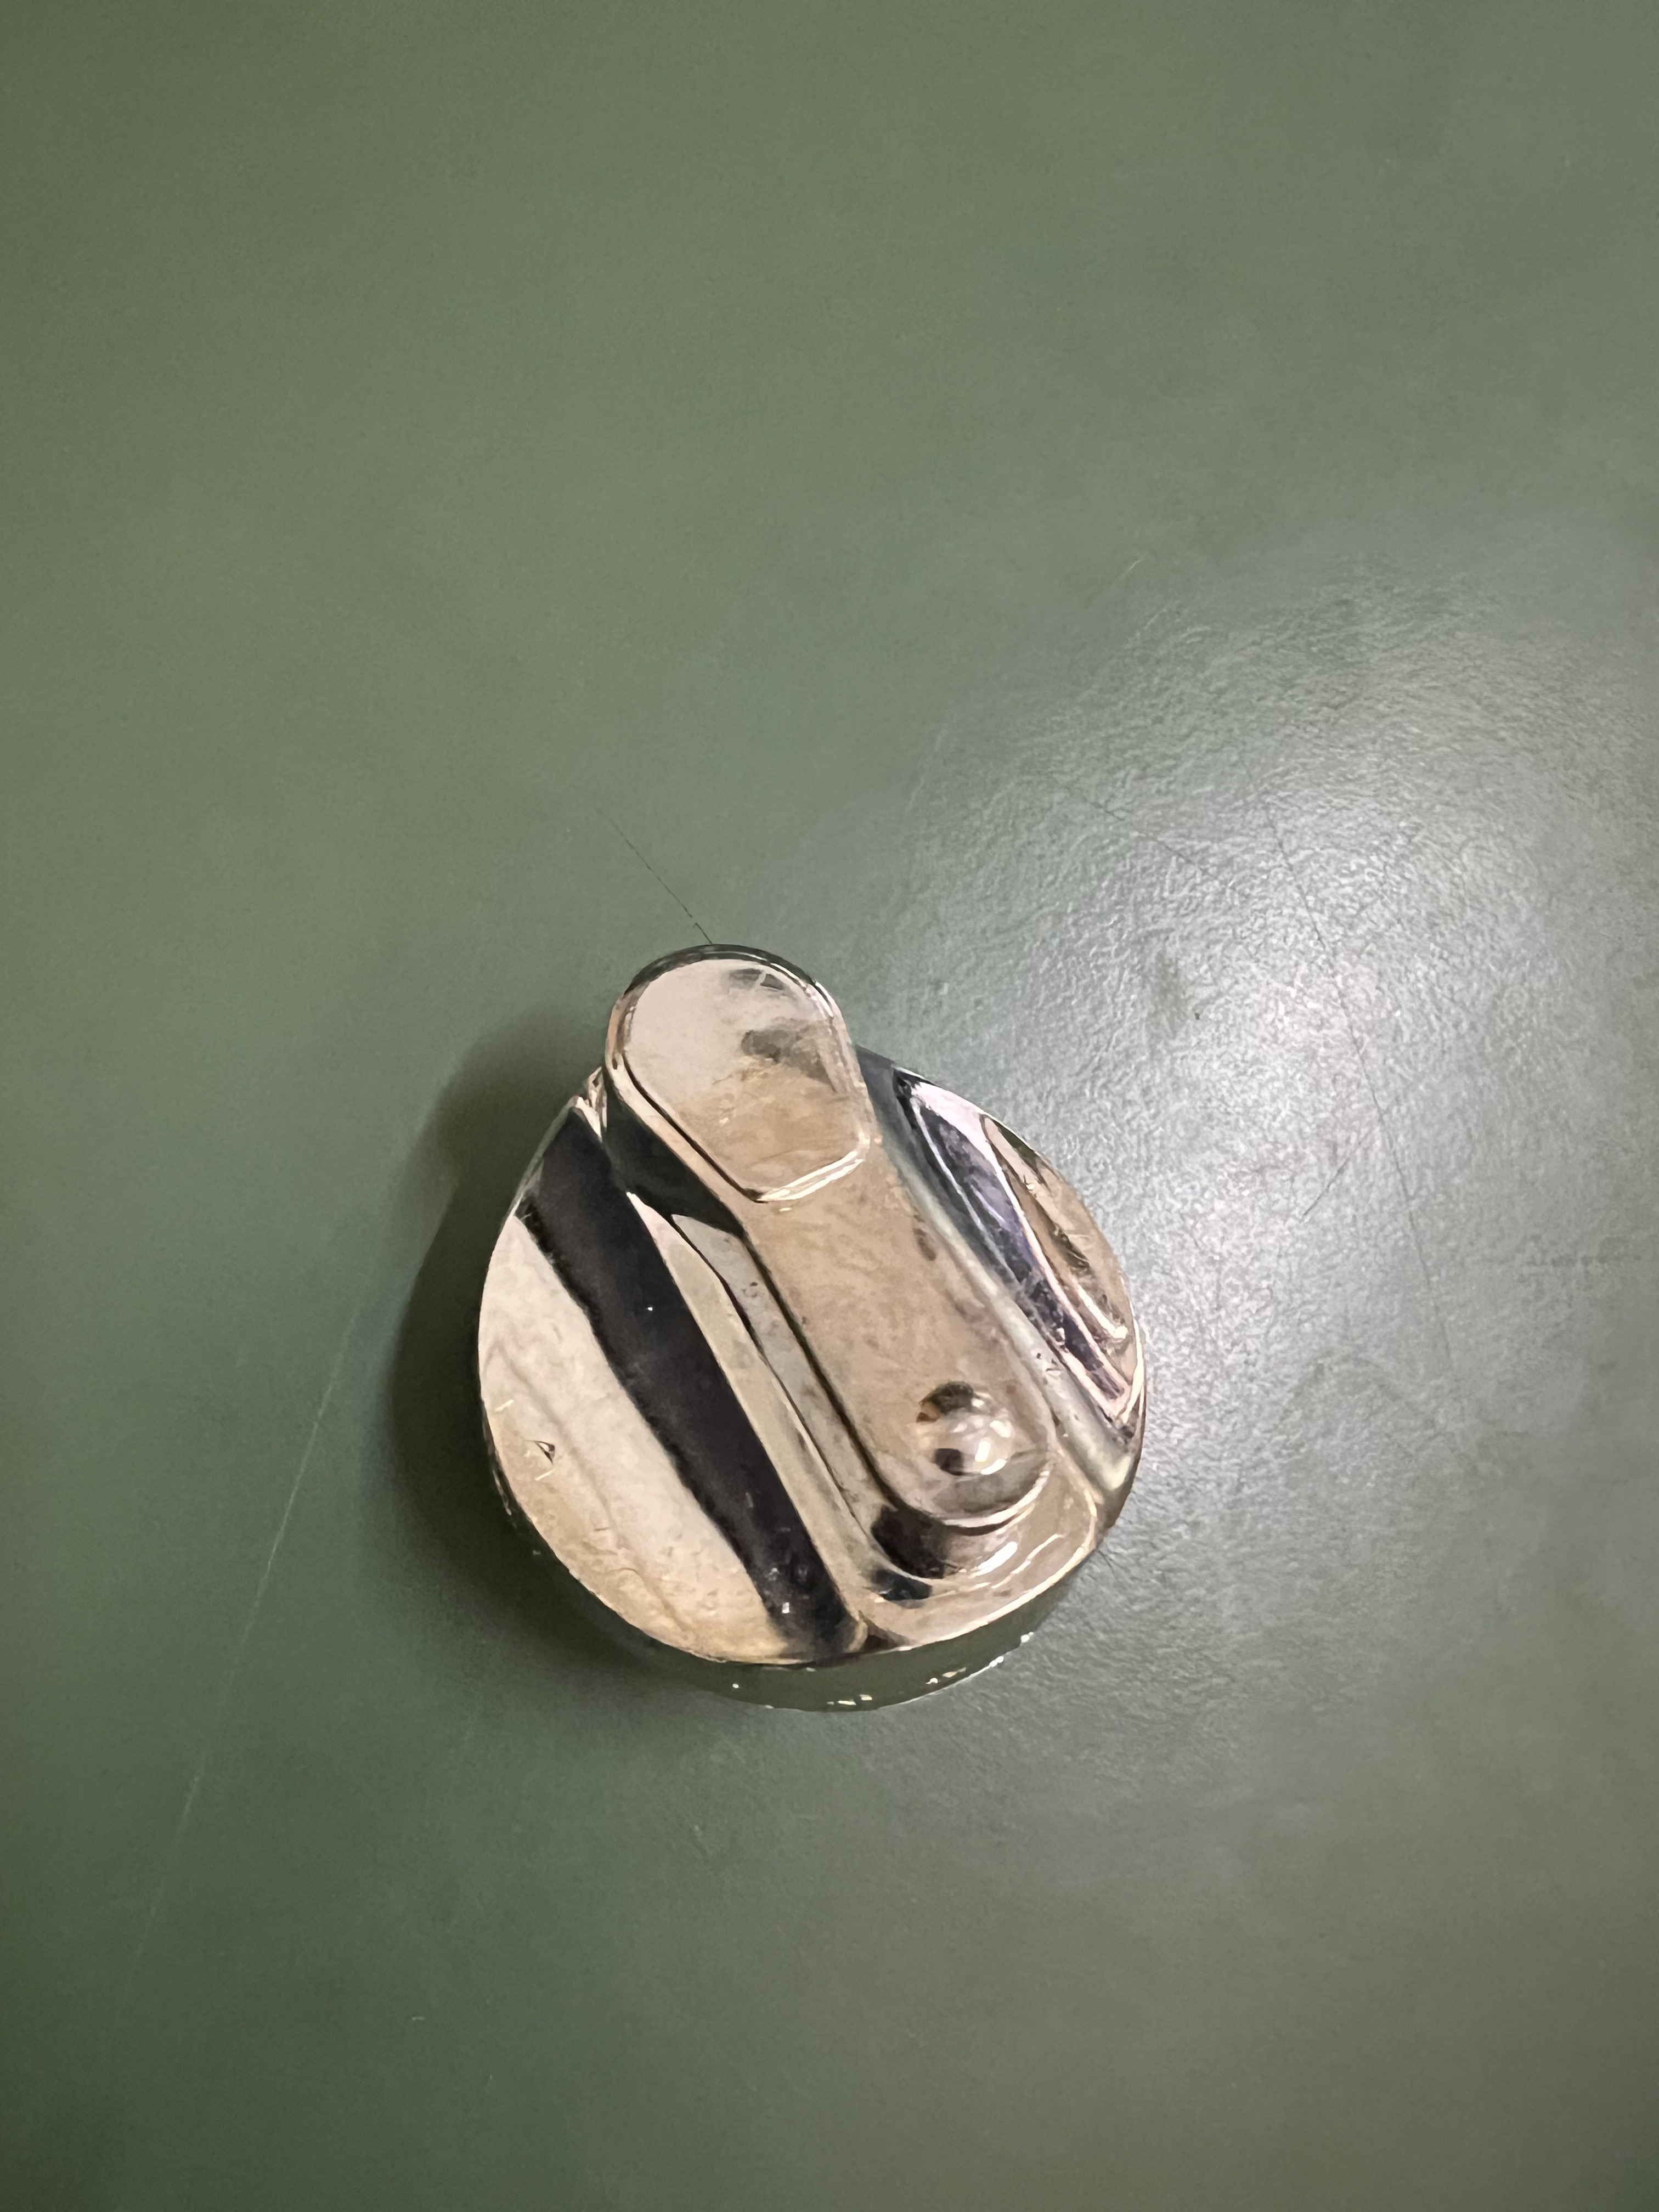regulator: (446, 920, 1161, 1719)
